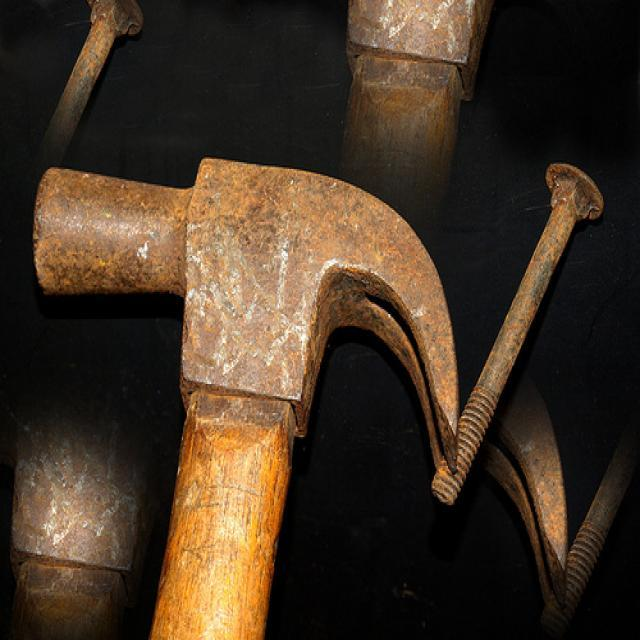hammer: (12, 136, 467, 640)
